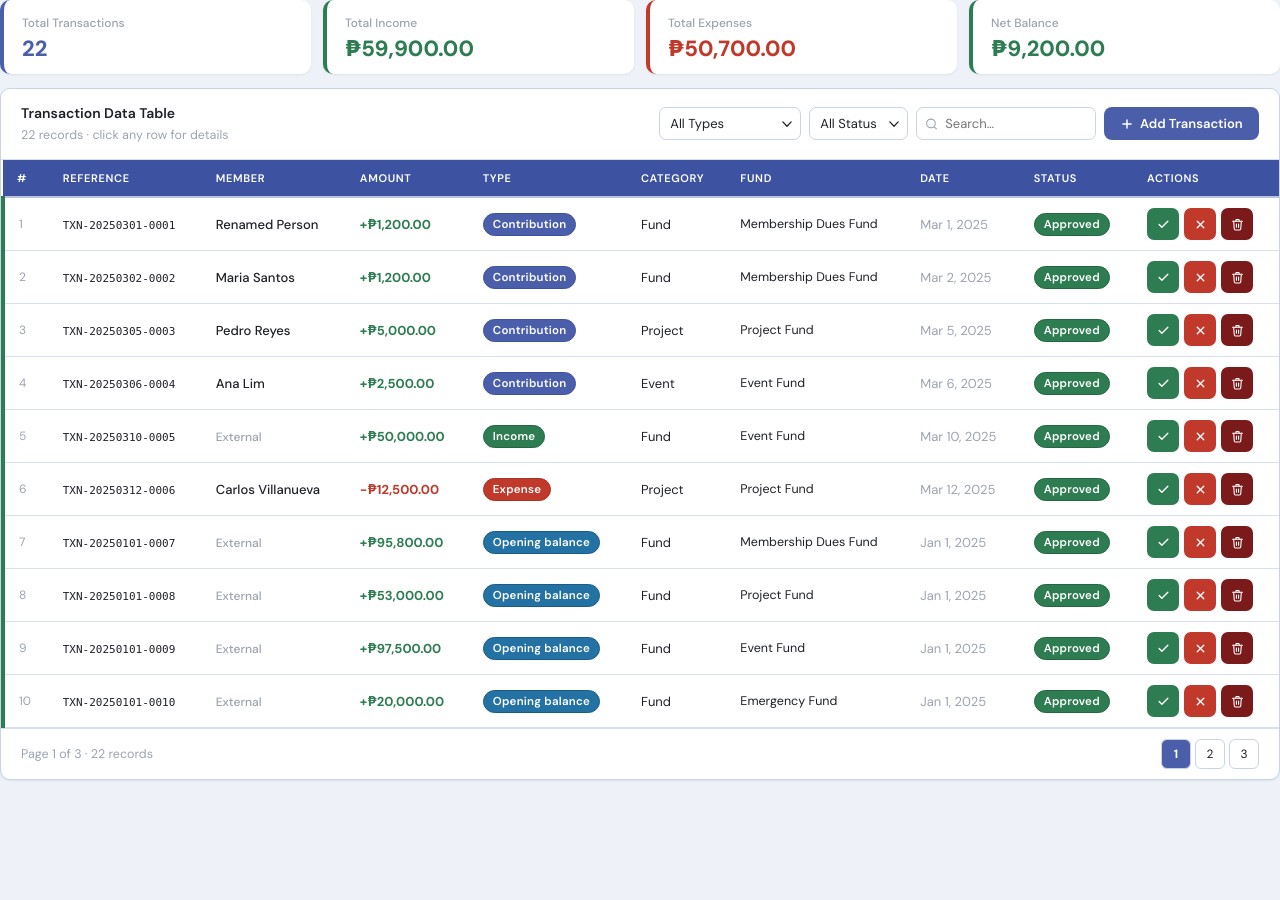
Transactions page › renaming a person changes the name on their transactions; search finds the NEW name
The image size is (1280, 900).
In the field with placeholder "Search…": (1006,124) [916,107,1096,140], type "Renamed Person"
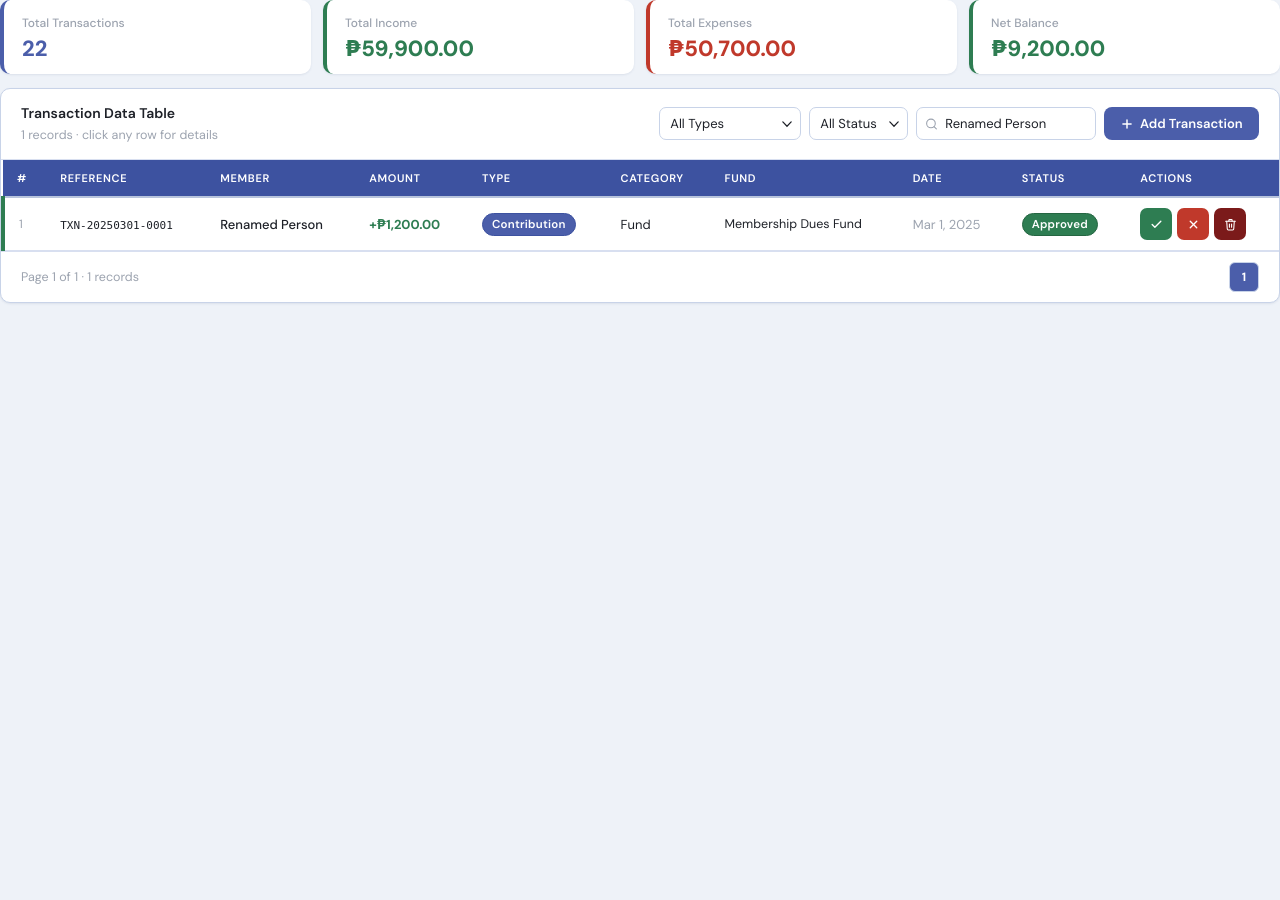
expect the row that starts with "TXN-20250301-0001" is shown: met, box [60,218,173,232]
Replace the text in the field with placeholder "Search…" with "Maria": (1006,124) [916,107,1096,140]
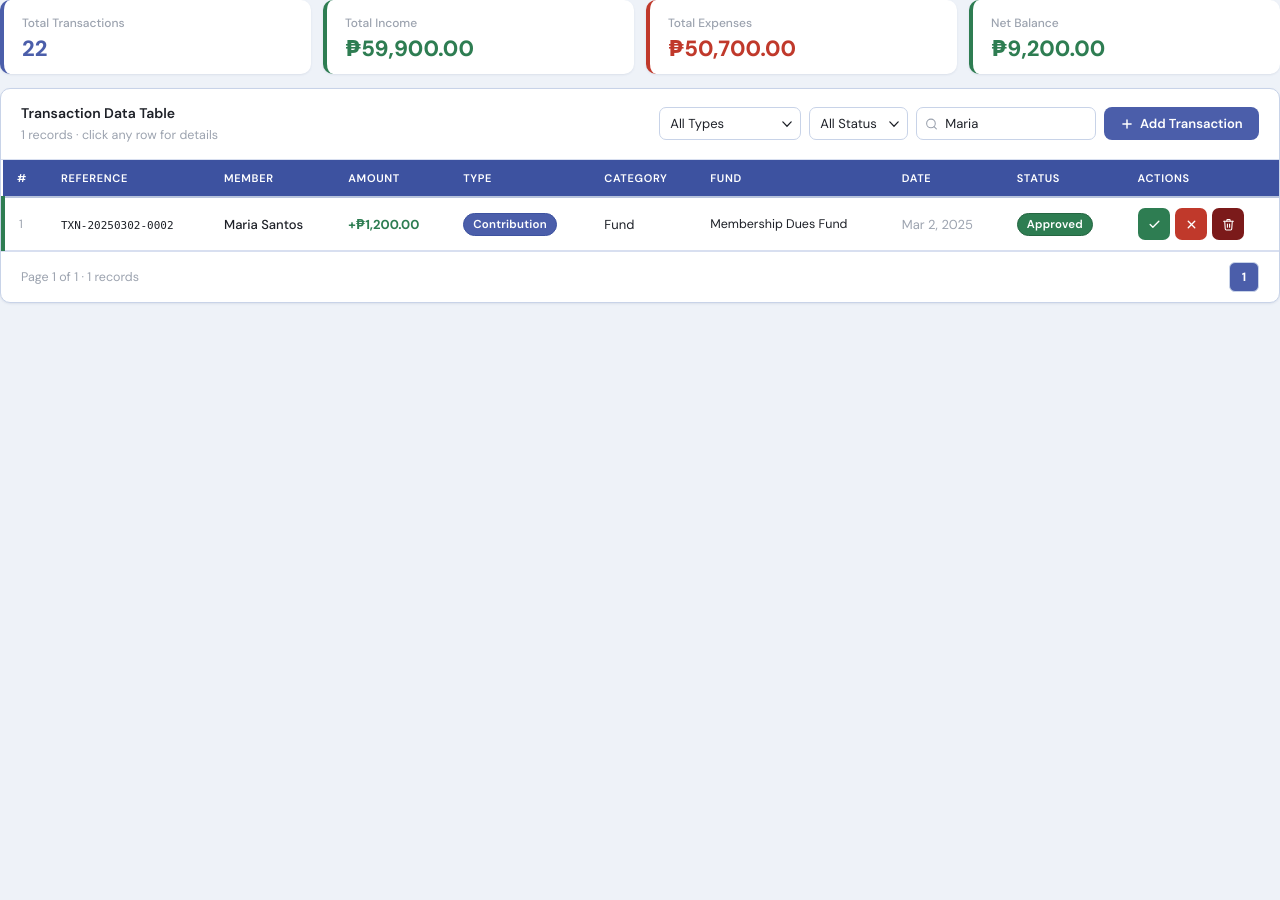
expect the text "TXN-20250301-0001" is gone: met
